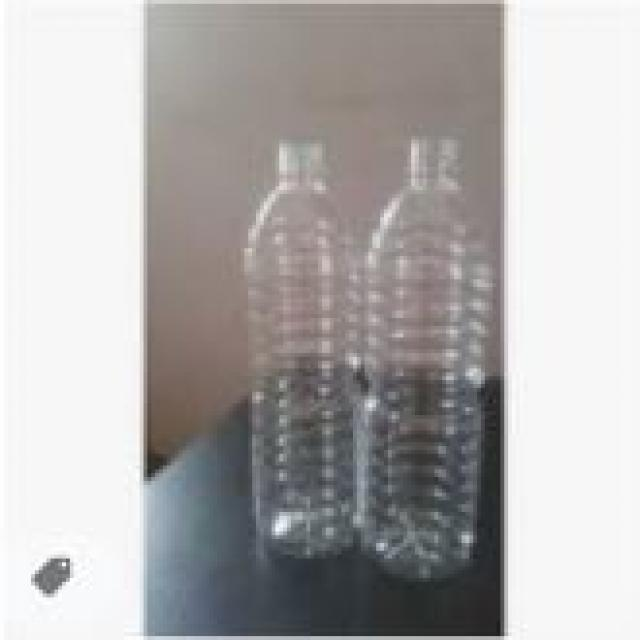bottle: (354, 156, 503, 579), (241, 136, 362, 558)
